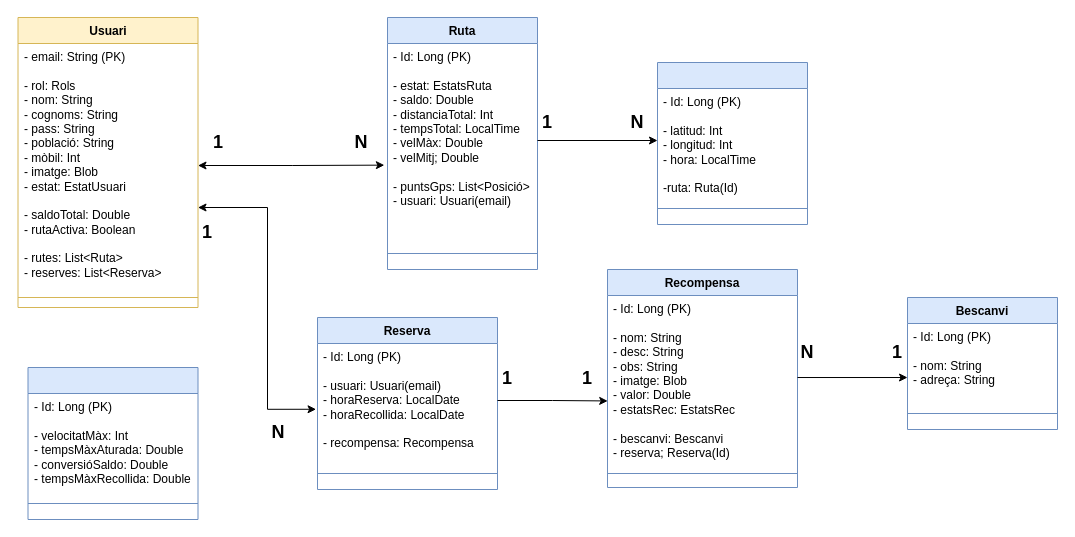
Some shapes in this 1075 by 537 pixel diagram are drawn without their labels. Here are the shapes that lost their labels. From the top down, the box of each, then its label:
(656, 62, 808, 224): Posició
(27, 366, 198, 520): Paràmetres Sistema
